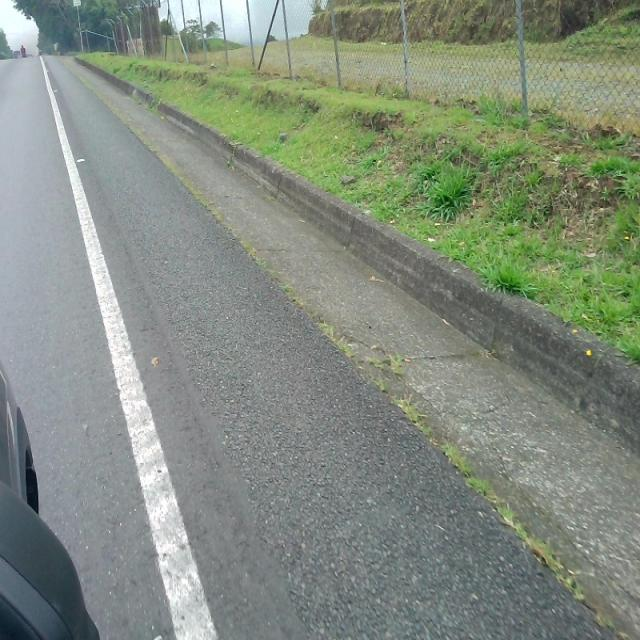DITCH: (26, 43, 638, 638), (45, 52, 638, 638), (41, 67, 638, 638)
